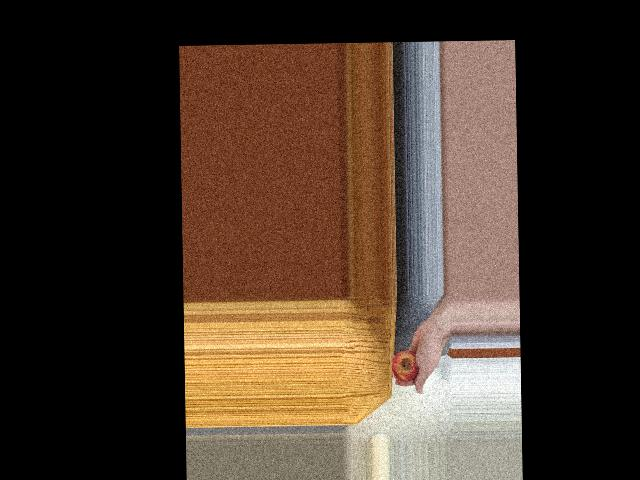apple: (390, 347, 421, 382)
